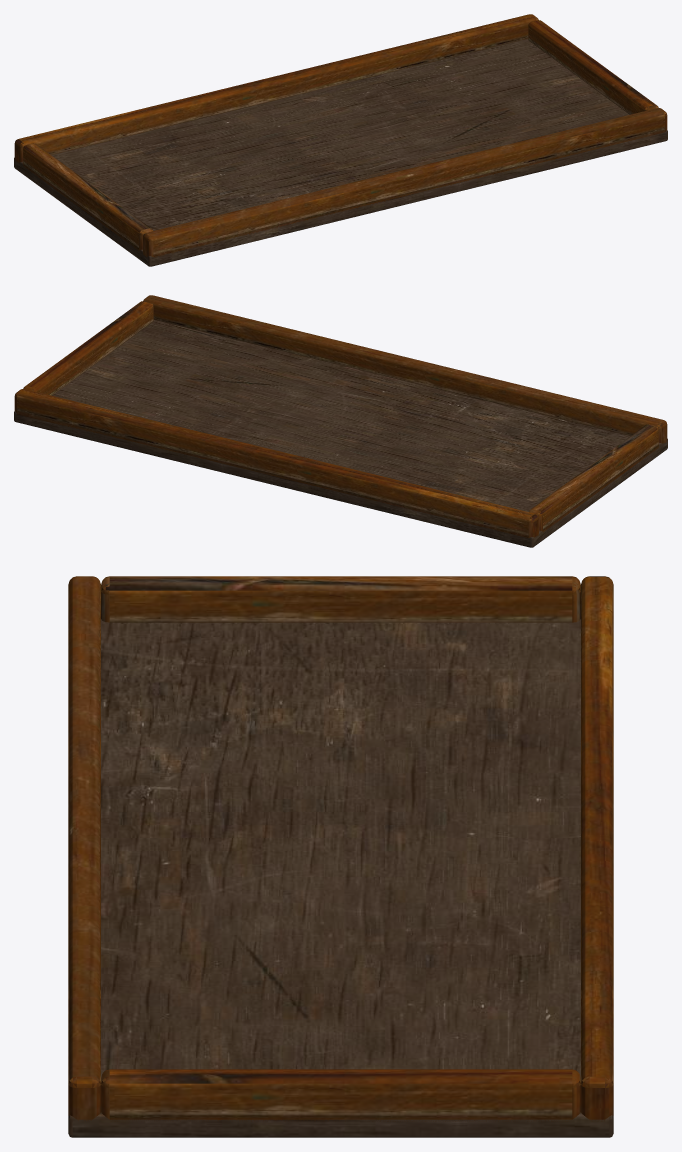
Rendered from PROP_WarmWood_Tray_A.glb.
3 views of the same model, one above another, from view 1: azimuth 30°, elevation 25°; view 2: azimuth 150°, elevation 25°; view 3: azimuth 270°, elevation 25° (orthographic). The views are drawn at different scales.
Visible parts, largest first — view 1: PROP_WarmWood_Tray_A; view 2: PROP_WarmWood_Tray_A; view 3: PROP_WarmWood_Tray_A.
Part boxes in pixels (x1,y1,x2,y2): PROP_WarmWood_Tray_A: (14, 14, 667, 266); PROP_WarmWood_Tray_A: (14, 295, 667, 547); PROP_WarmWood_Tray_A: (68, 576, 613, 1137).
Size of the model in its own units: 1.1 by 0.06 by 0.5.
Materials: 2 (2 with a texture image).
